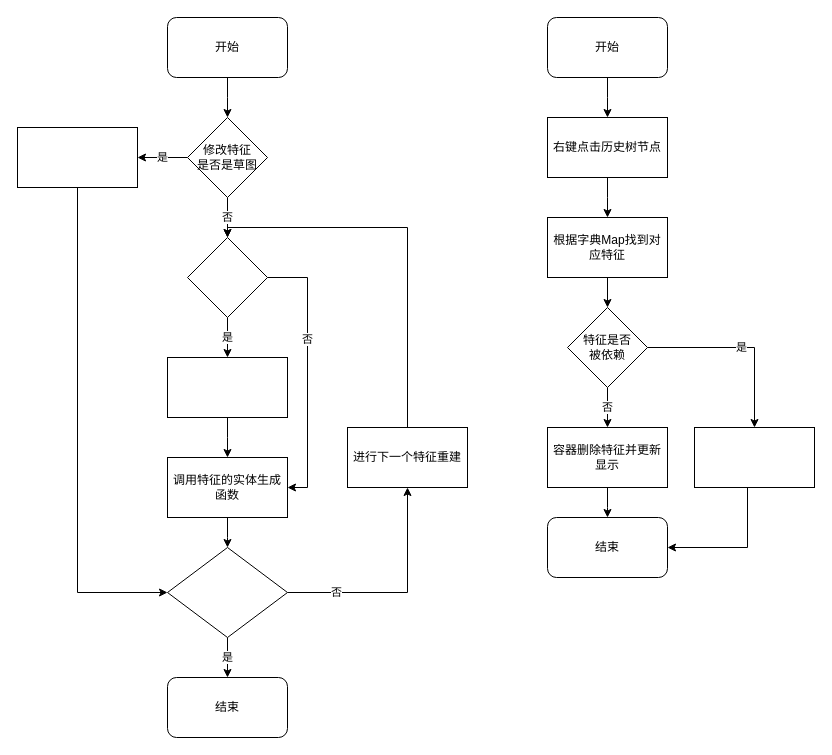
This 832x755 diagram has some shape labels left out. Here are the shapes that lost their labels. From the top down, the centre of each, then its label:
At (x=77, y=157): "草图特征重新生成拓扑面".
At (x=227, y=277): "是否引用 拓扑元素".
At (x=227, y=387): "辨识目标引用元素".
At (x=754, y=457): "弹出对话框提示删除失败".
At (x=227, y=592): "此特征是否是 最后一个特征".
